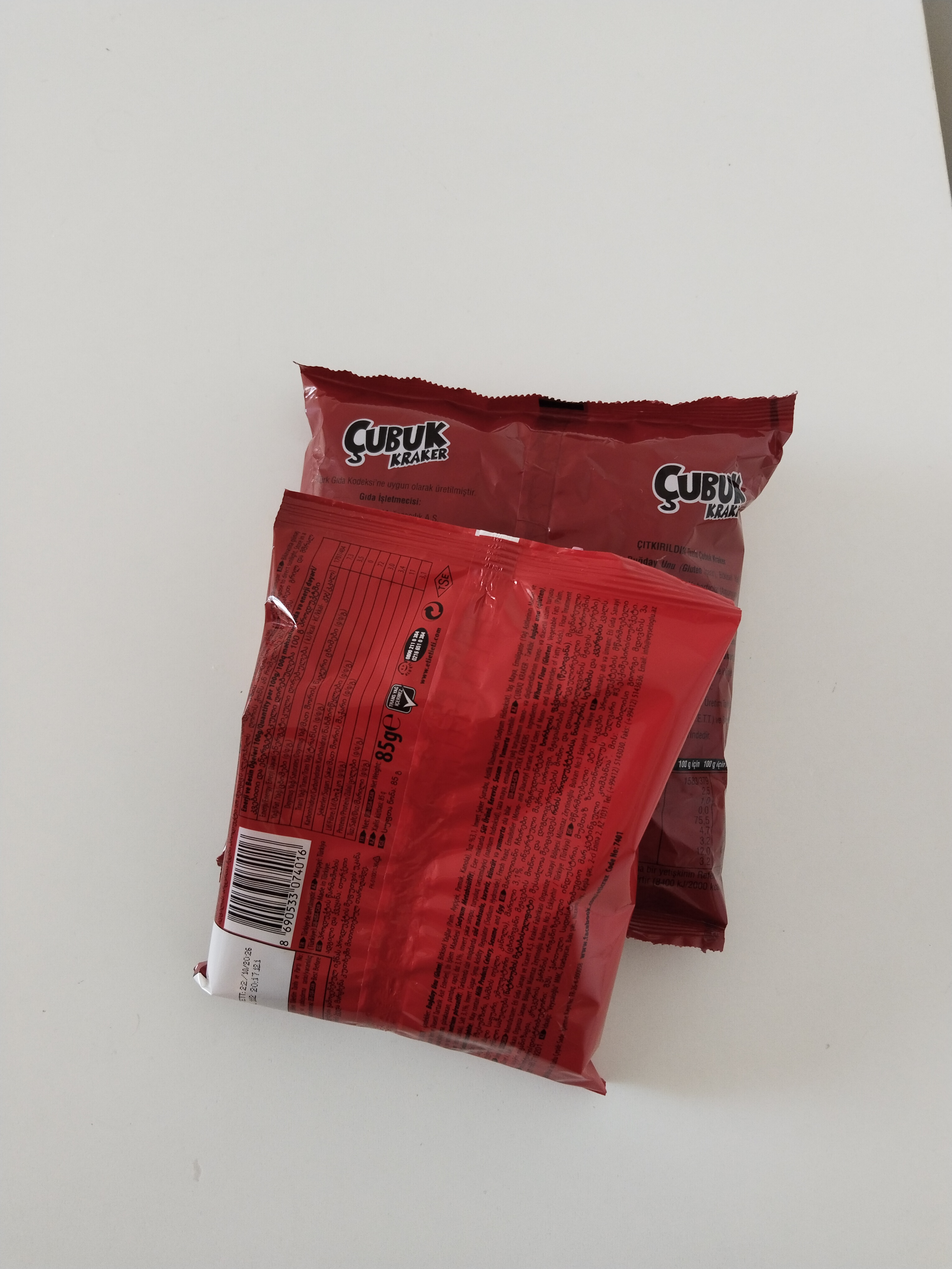citkirildim_cubuk_kraker: (297, 368, 796, 598)
eti_crax_cubuk_kraker: (196, 495, 747, 1093)
